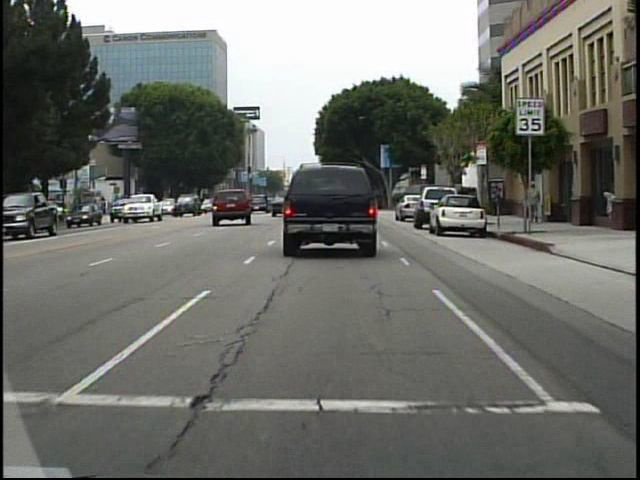person: (525, 180, 545, 227), (453, 183, 469, 219)
